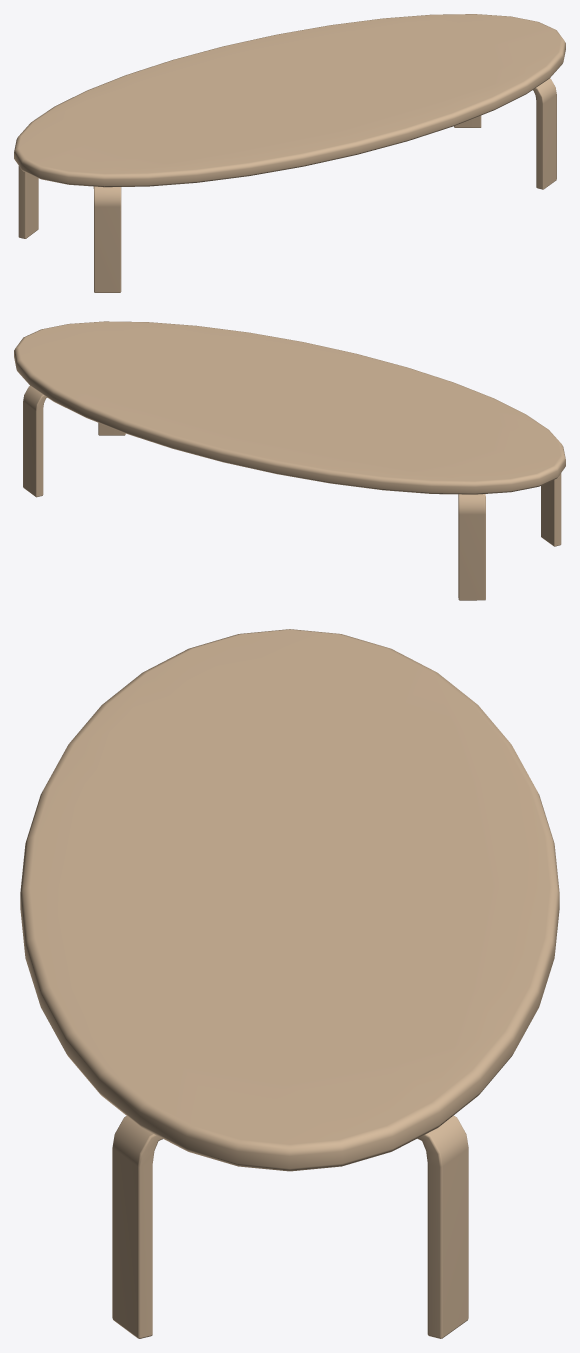
Rendered from EndTable.fbx.
3 views of the same model, one above another, from view 1: azimuth 30°, elevation 25°; view 2: azimuth 150°, elevation 25°; view 3: azimuth 270°, elevation 25° (orthographic). The views are drawn at different scales.
Parts seen in each view (by area): view 1: pDisc1, pCube14, pCube13; view 2: pDisc1, pCube14, pCube13; view 3: pDisc1, pCube13.
Part boxes in pixels (box(x1,y1,x2,y2)): pDisc1: box(14, 14, 565, 187); pCube14: box(18, 166, 121, 292); pCube13: box(454, 78, 556, 189); pDisc1: box(14, 321, 565, 494); pCube14: box(458, 473, 561, 600); pCube13: box(23, 386, 125, 497); pDisc1: box(20, 629, 559, 1171); pCube13: box(112, 1115, 468, 1338).
Bounding box in the file's own units: 4.84 × 0.989 × 2.11.
